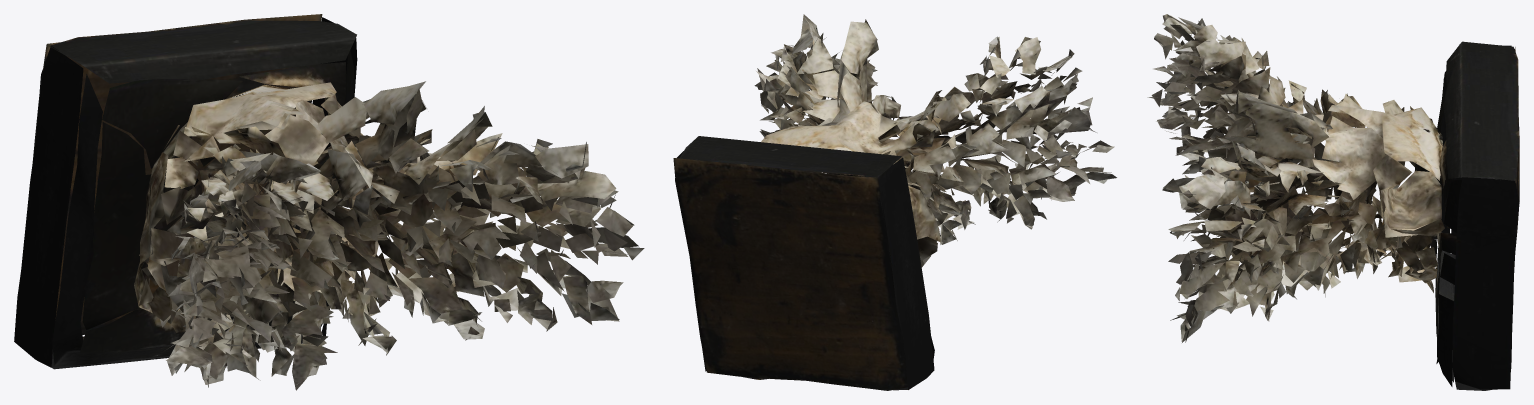
File: Hyacinthus_LOD2.fbx
3 views of the same model, side by side, from view 1: azimuth 30°, elevation 25°; view 2: azimuth 150°, elevation 25°; view 3: azimuth 270°, elevation 25° (orthographic). The views are drawn at different scales.
Parts seen in each view (by area): view 1: Hyacinthus_LOD2; view 2: Hyacinthus_LOD2; view 3: Hyacinthus_LOD2.
Part boxes in pixels (x1,y1,x2,y2): Hyacinthus_LOD2: [14, 14, 644, 390]; Hyacinthus_LOD2: [673, 14, 1116, 390]; Hyacinthus_LOD2: [1147, 14, 1519, 390].
Size of the model in its own units: 97.43 by 71.05 by 84.09.
1 material, 1 textured.
